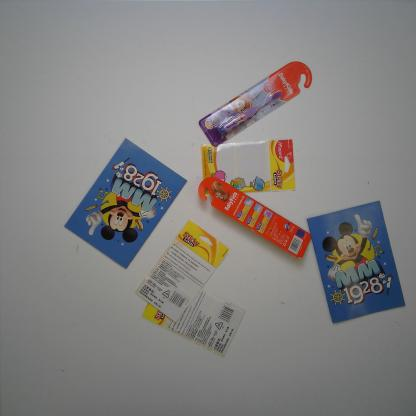Personal Hygiene: (196, 58, 314, 149), (197, 176, 312, 262)
Stationery: (63, 136, 189, 272), (303, 196, 408, 328), (134, 217, 232, 323), (137, 284, 250, 357), (198, 139, 296, 197)
